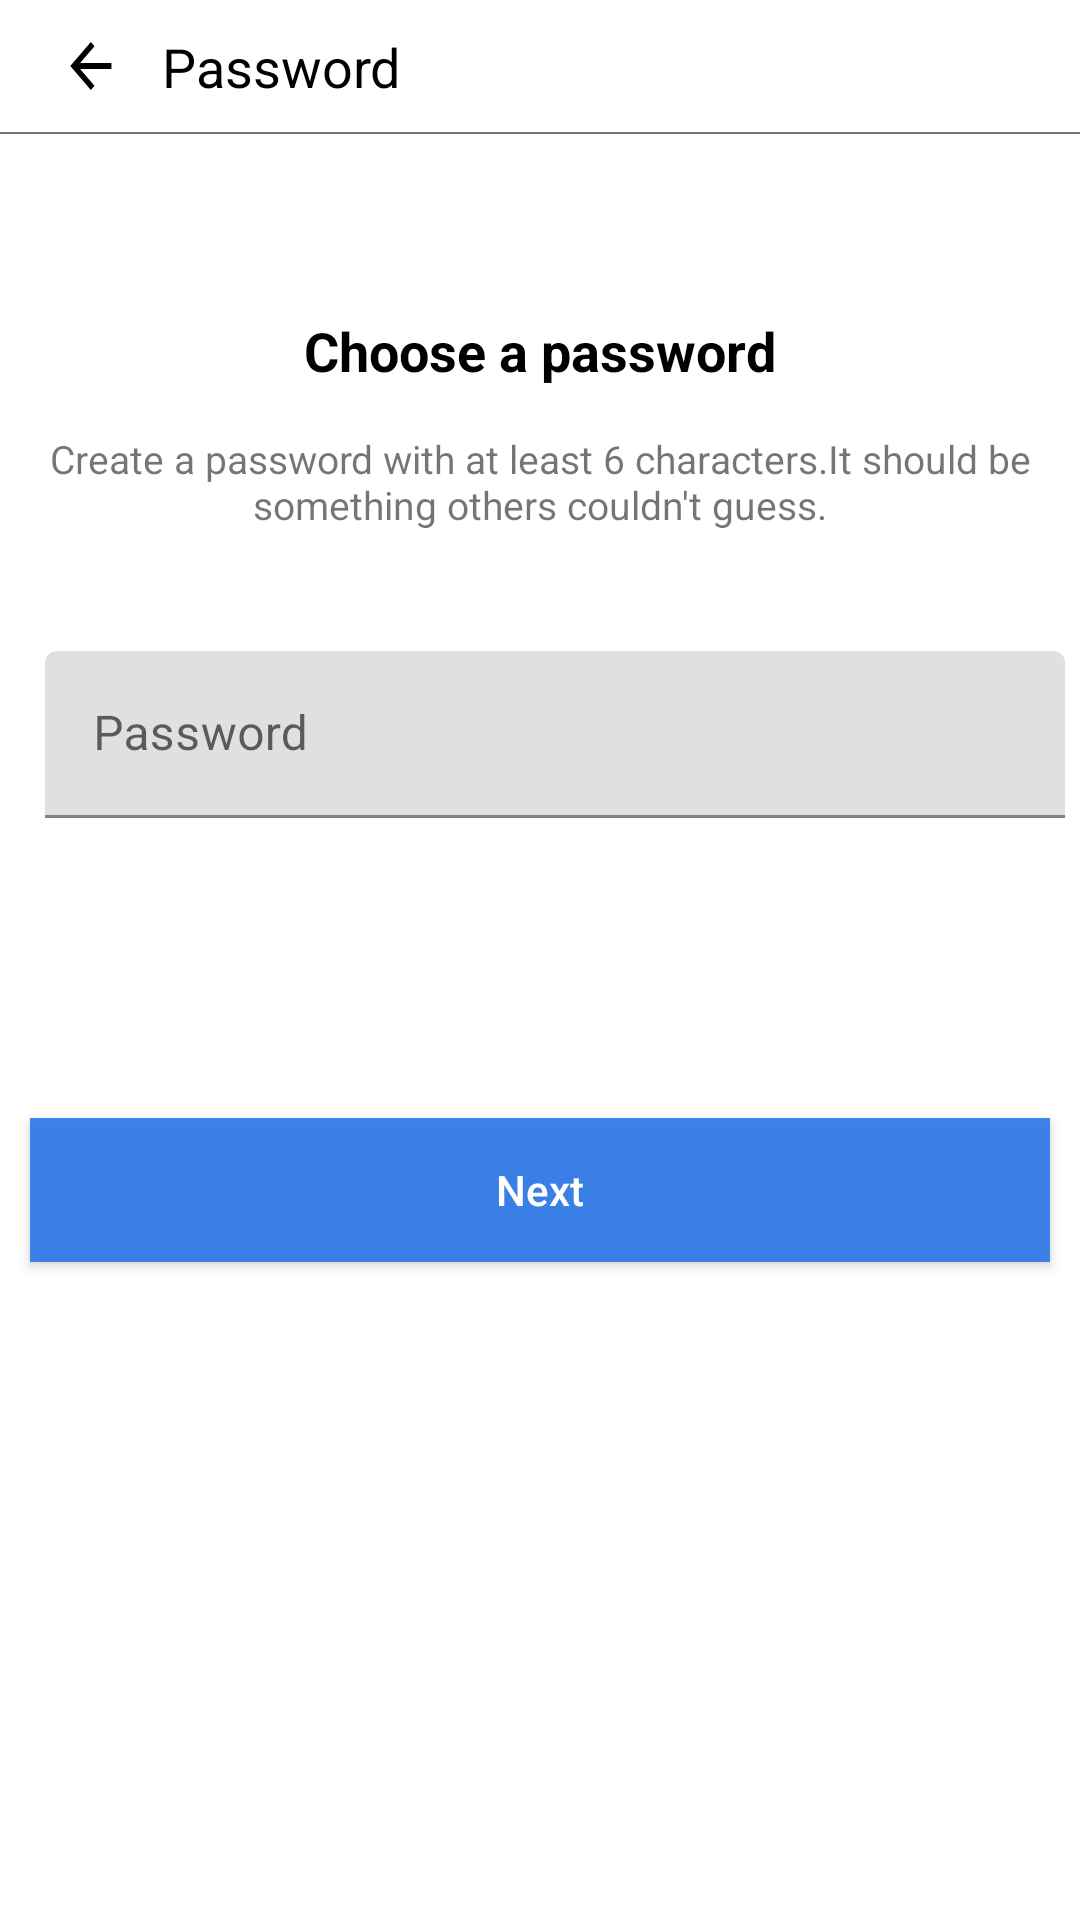

Point at icon controls on the screen. Image size 1080×1920, points as point (x, y).
arrow back: point (91, 66)
